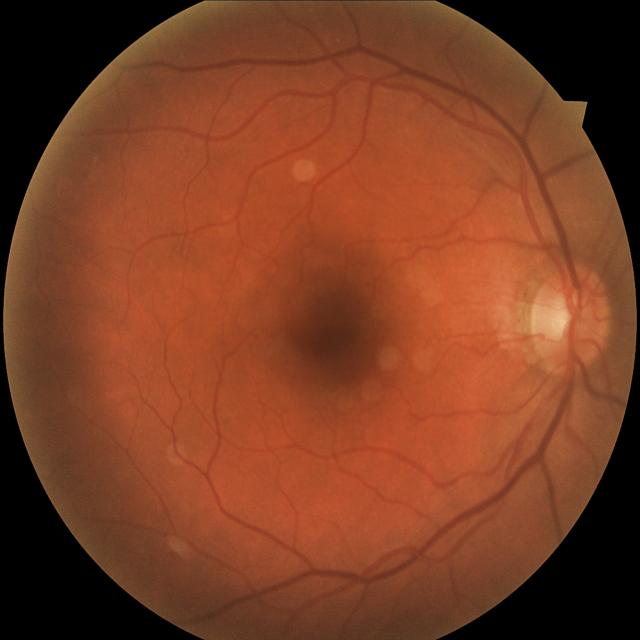OC: (551, 302, 574, 338)
OD: (532, 269, 611, 374)
